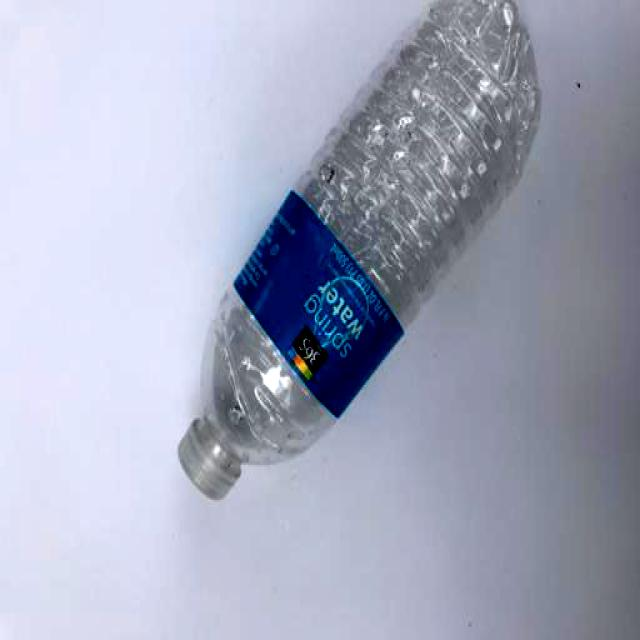Plastic: (157, 0, 551, 515)
